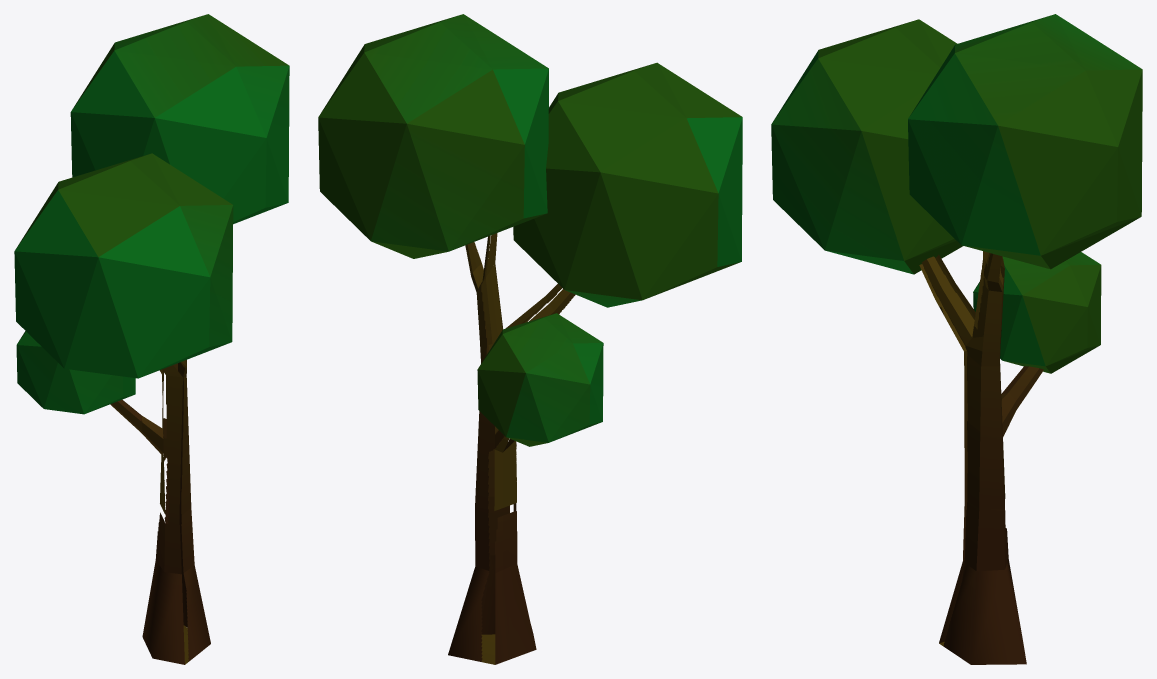
The model's file is drzewo10.obj.
The picture shows the model from 3 angles, left to right: view 1: azimuth 30°, elevation 25°; view 2: azimuth 150°, elevation 25°; view 3: azimuth 270°, elevation 25°; orthographic projection. The views are drawn at different scales.
Visible parts, largest first — view 1: Cylinder005; view 2: Cylinder005; view 3: Cylinder005.
Boxes of the visible parts, x1,y1,x2,y2 form: Cylinder005: [14, 14, 289, 664]; Cylinder005: [318, 14, 742, 664]; Cylinder005: [771, 14, 1142, 664].
Size of the model in its own units: 59.55 by 111 by 58.08.
